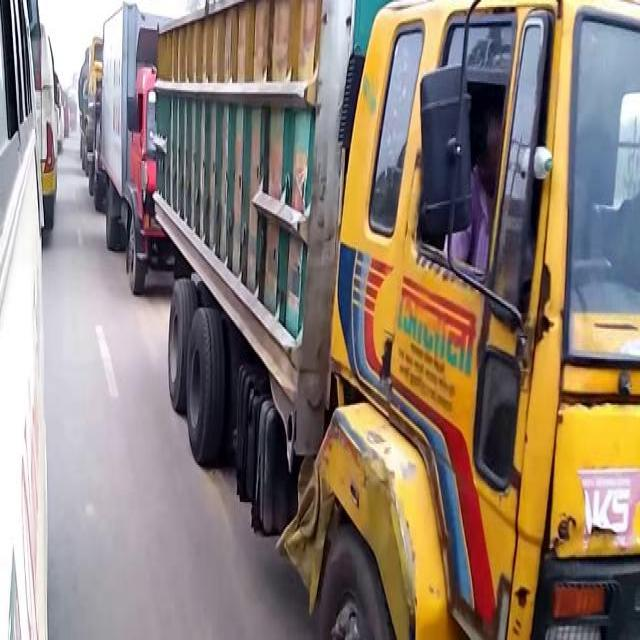18: (153, 3, 637, 630), (100, 3, 156, 289)
Truck: (31, 20, 58, 236)
